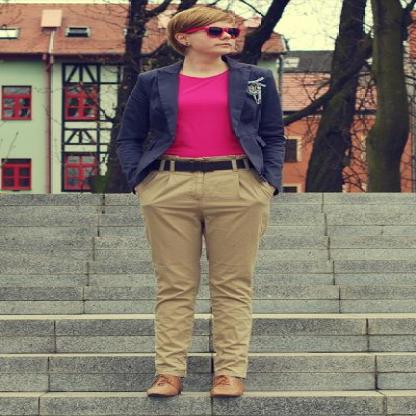jacket: (98, 63, 296, 196)
pants: (116, 164, 274, 380)
shirt: (166, 75, 242, 157)
shoe: (138, 369, 248, 396)
sunglass: (212, 27, 250, 51)
